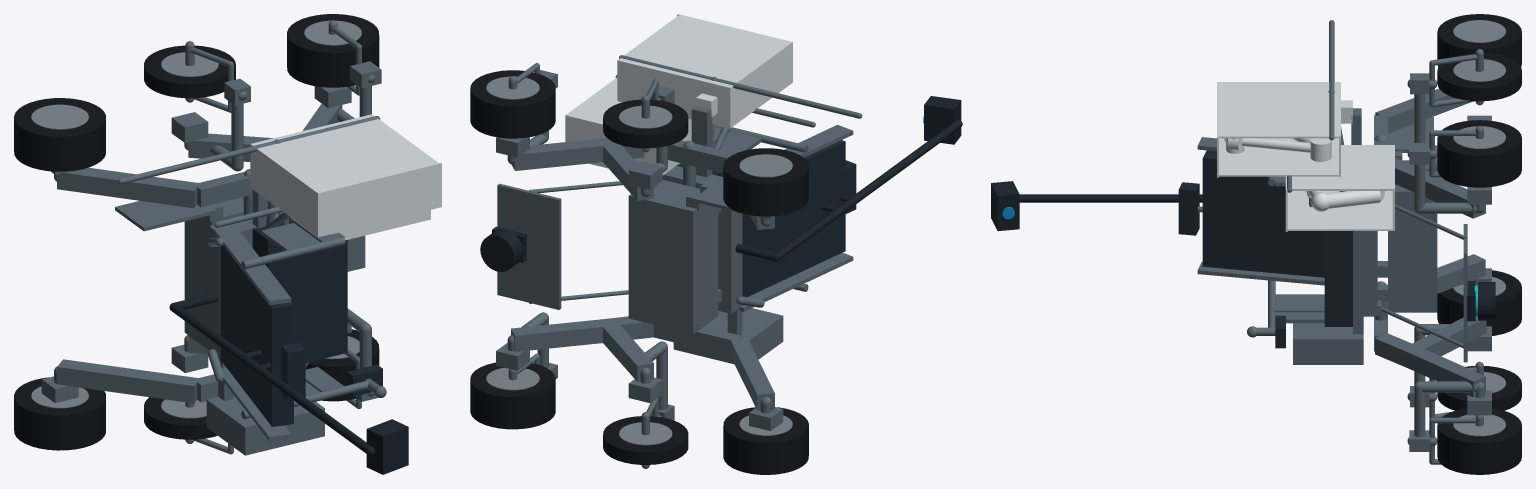
File: wheelchair_folded.obj
3 views of the same model, side by side, from view 1: azimuth 30°, elevation 25°; view 2: azimuth 150°, elevation 25°; view 3: azimuth 270°, elevation 25° (orthographic). The views are drawn at different scales.
Visible parts, largest first — view 1: main_case_outer, base_visual_3, base_visual_2, main_case_cover, wheel_rear_left_visual_0, wheel_rear_right_visual_0, wheel_front_left_visual_0, rocker_right_visual_1, controller_box_visual, rocker_left_visual_1, main_case_back, base_visual_0 (+35 smaller); view 2: base_visual_0, base_visual_3, main_case_outer, base_visual_11, wheel_rear_left_visual_0, wheel_front_left_visual_0, wheel_rear_right_visual_0, wheel_front_right_visual_0, main_case_floor_front, base_visual_1, wheel_mid_left_visual_0, wheel_mid_right_visual_0 (+34 smaller); view 3: base_visual_3, main_case_outer, base_visual_0, wheel_front_left_visual_0, wheel_front_right_visual_0, main_case_inner_front, aux_case_outer, aux_case_inner, base_visual_2, controller_box_visual, wheel_rear_left_visual_0, wheel_mid_left_visual_0 (+29 smaller).
Boxes of the visible parts, <box> form: main_case_outer: <box>252,114,438,191</box>; base_visual_3: <box>221,246,293,426</box>; base_visual_2: <box>252,226,347,362</box>; main_case_cover: <box>317,162,441,237</box>; wheel_rear_left_visual_0: <box>14,98,105,171</box>; wheel_rear_right_visual_0: <box>14,377,105,450</box>; wheel_front_left_visual_0: <box>287,14,379,87</box>; rocker_right_visual_1: <box>57,359,198,403</box>; controller_box_visual: <box>206,396,324,455</box>; rocker_left_visual_1: <box>57,167,197,208</box>; main_case_back: <box>250,143,318,236</box>; base_visual_0: <box>184,197,275,349</box>; base_visual_0: <box>628,180,718,334</box>; base_visual_3: <box>742,140,845,297</box>; main_case_outer: <box>617,15,789,89</box>; base_visual_11: <box>497,183,561,309</box>; wheel_rear_left_visual_0: <box>723,148,808,216</box>; wheel_front_left_visual_0: <box>470,70,555,138</box>; wheel_rear_right_visual_0: <box>723,407,808,474</box>; wheel_front_right_visual_0: <box>470,362,555,429</box>; main_case_floor_front: <box>617,62,728,127</box>; base_visual_1: <box>662,165,742,313</box>; wheel_mid_left_visual_0: <box>603,99,688,148</box>; wheel_mid_right_visual_0: <box>603,416,688,464</box>; base_visual_3: <box>1202,150,1324,277</box>; main_case_outer: <box>1219,83,1340,138</box>; base_visual_0: <box>1388,160,1437,312</box>; wheel_front_left_visual_0: <box>1437,120,1521,187</box>; wheel_front_right_visual_0: <box>1437,408,1521,474</box>; main_case_inner_front: <box>1219,138,1338,176</box>; aux_case_outer: <box>1292,146,1394,190</box>; aux_case_inner: <box>1287,191,1394,230</box>; base_visual_2: <box>1324,231,1352,326</box>; controller_box_visual: <box>1293,323,1363,364</box>; wheel_rear_left_visual_0: <box>1437,14,1521,66</box>; wheel_mid_left_visual_0: <box>1437,53,1521,101</box>.
Size of what is drawn, in the model's own units: 1.06 by 1.15 by 1.51.
